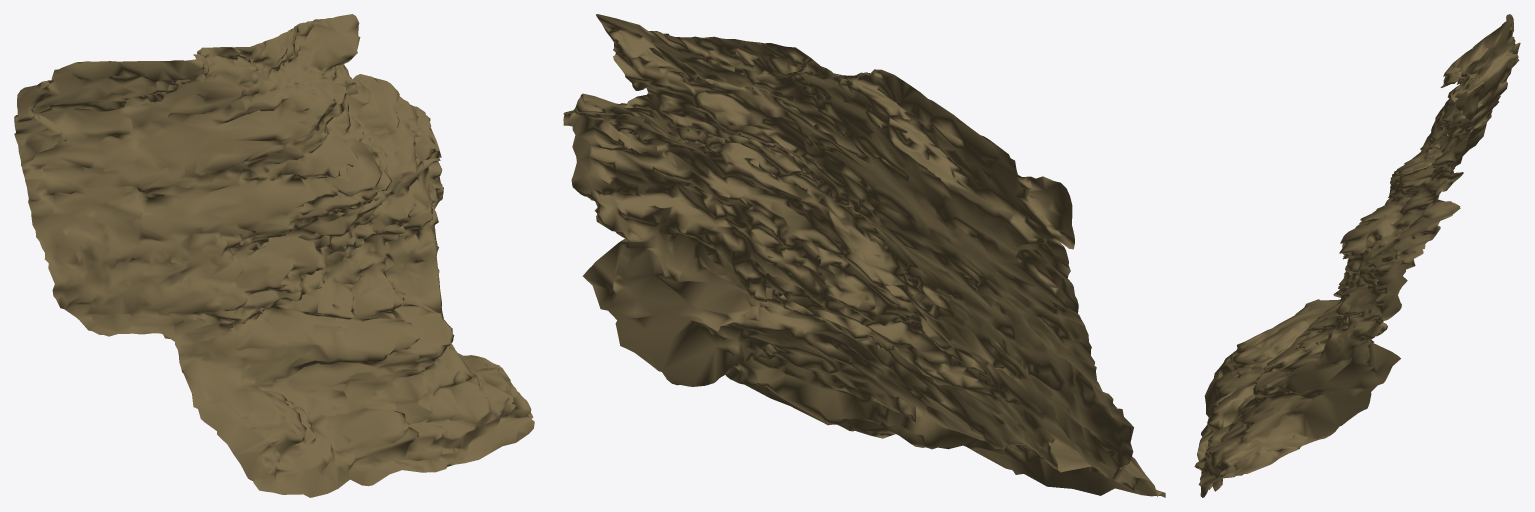
The model's file is rock_face_02-lod0.glb.
3 renders of one model, left to right at view 1: azimuth 30°, elevation 25°; view 2: azimuth 150°, elevation 25°; view 3: azimuth 270°, elevation 25°, orthographic. The views are drawn at different scales.
Parts seen in each view (by area): view 1: rock_face_02; view 2: rock_face_02; view 3: rock_face_02.
Boxes of the visible parts, x1,y1,x2,y2 form: rock_face_02: (14,14,534,497); rock_face_02: (563,14,1165,497); rock_face_02: (1194,14,1520,497).
Size of the model in its own units: 2.71 by 2.47 by 2.13.
